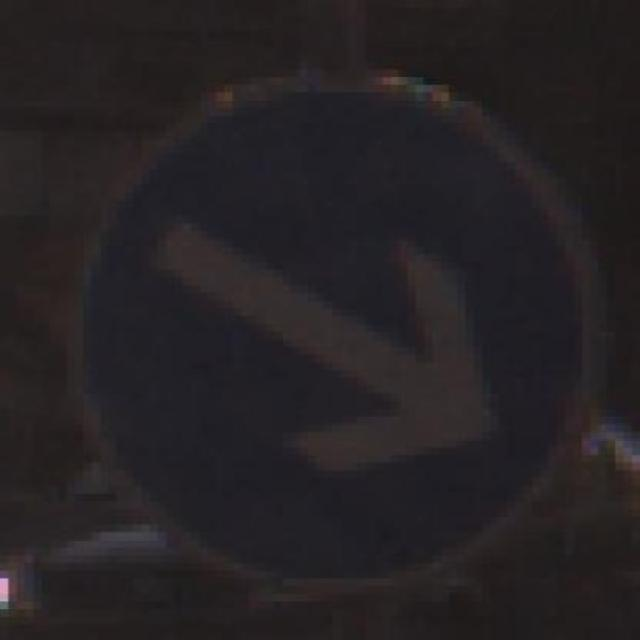Keep-Right: (49, 69, 616, 594)
